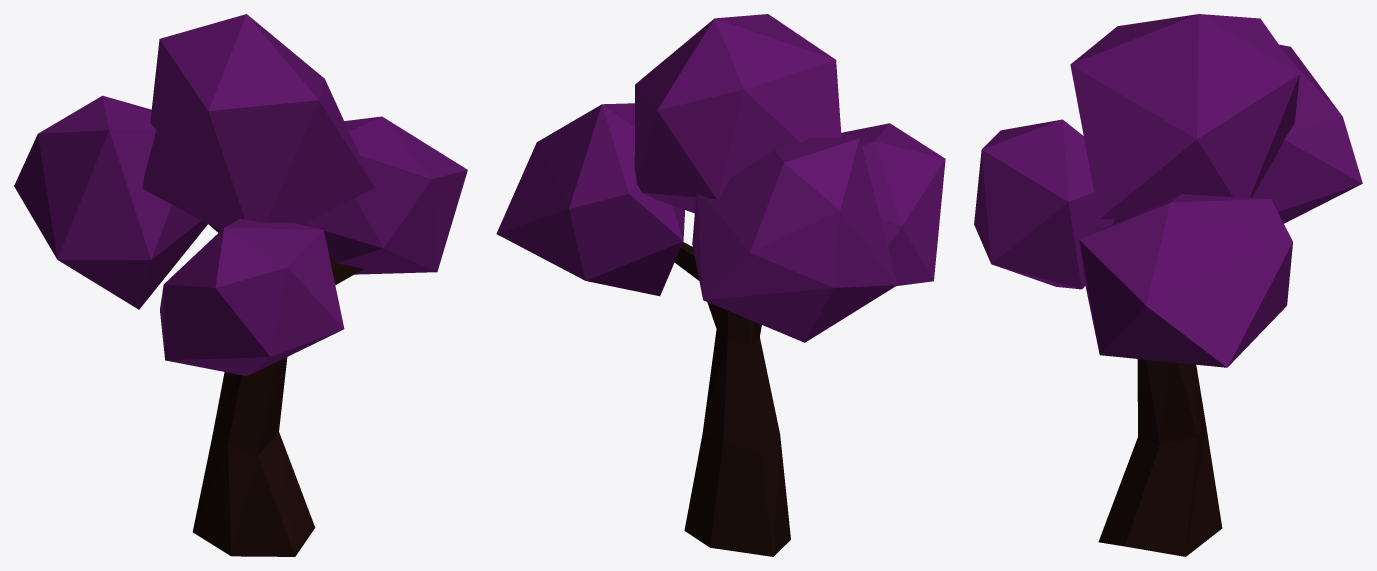
File: M_PollutionTree2.FBX
The picture shows the model from 3 angles, left to right: view 1: azimuth 30°, elevation 25°; view 2: azimuth 150°, elevation 25°; view 3: azimuth 270°, elevation 25°; orthographic projection. The views are drawn at different scales.
Visible parts, largest first — view 1: GeoSphere037, Cylinder010; view 2: GeoSphere037, Cylinder010; view 3: GeoSphere037, Cylinder010.
Boxes of the visible parts, bbox=[...] form: GeoSphere037: bbox=[14, 14, 467, 376]; Cylinder010: bbox=[192, 224, 363, 556]; GeoSphere037: bbox=[496, 14, 945, 342]; Cylinder010: bbox=[674, 242, 790, 556]; GeoSphere037: bbox=[974, 14, 1362, 367]; Cylinder010: bbox=[1098, 359, 1222, 556].
Size of the model in its own units: 474 by 611 by 405.
